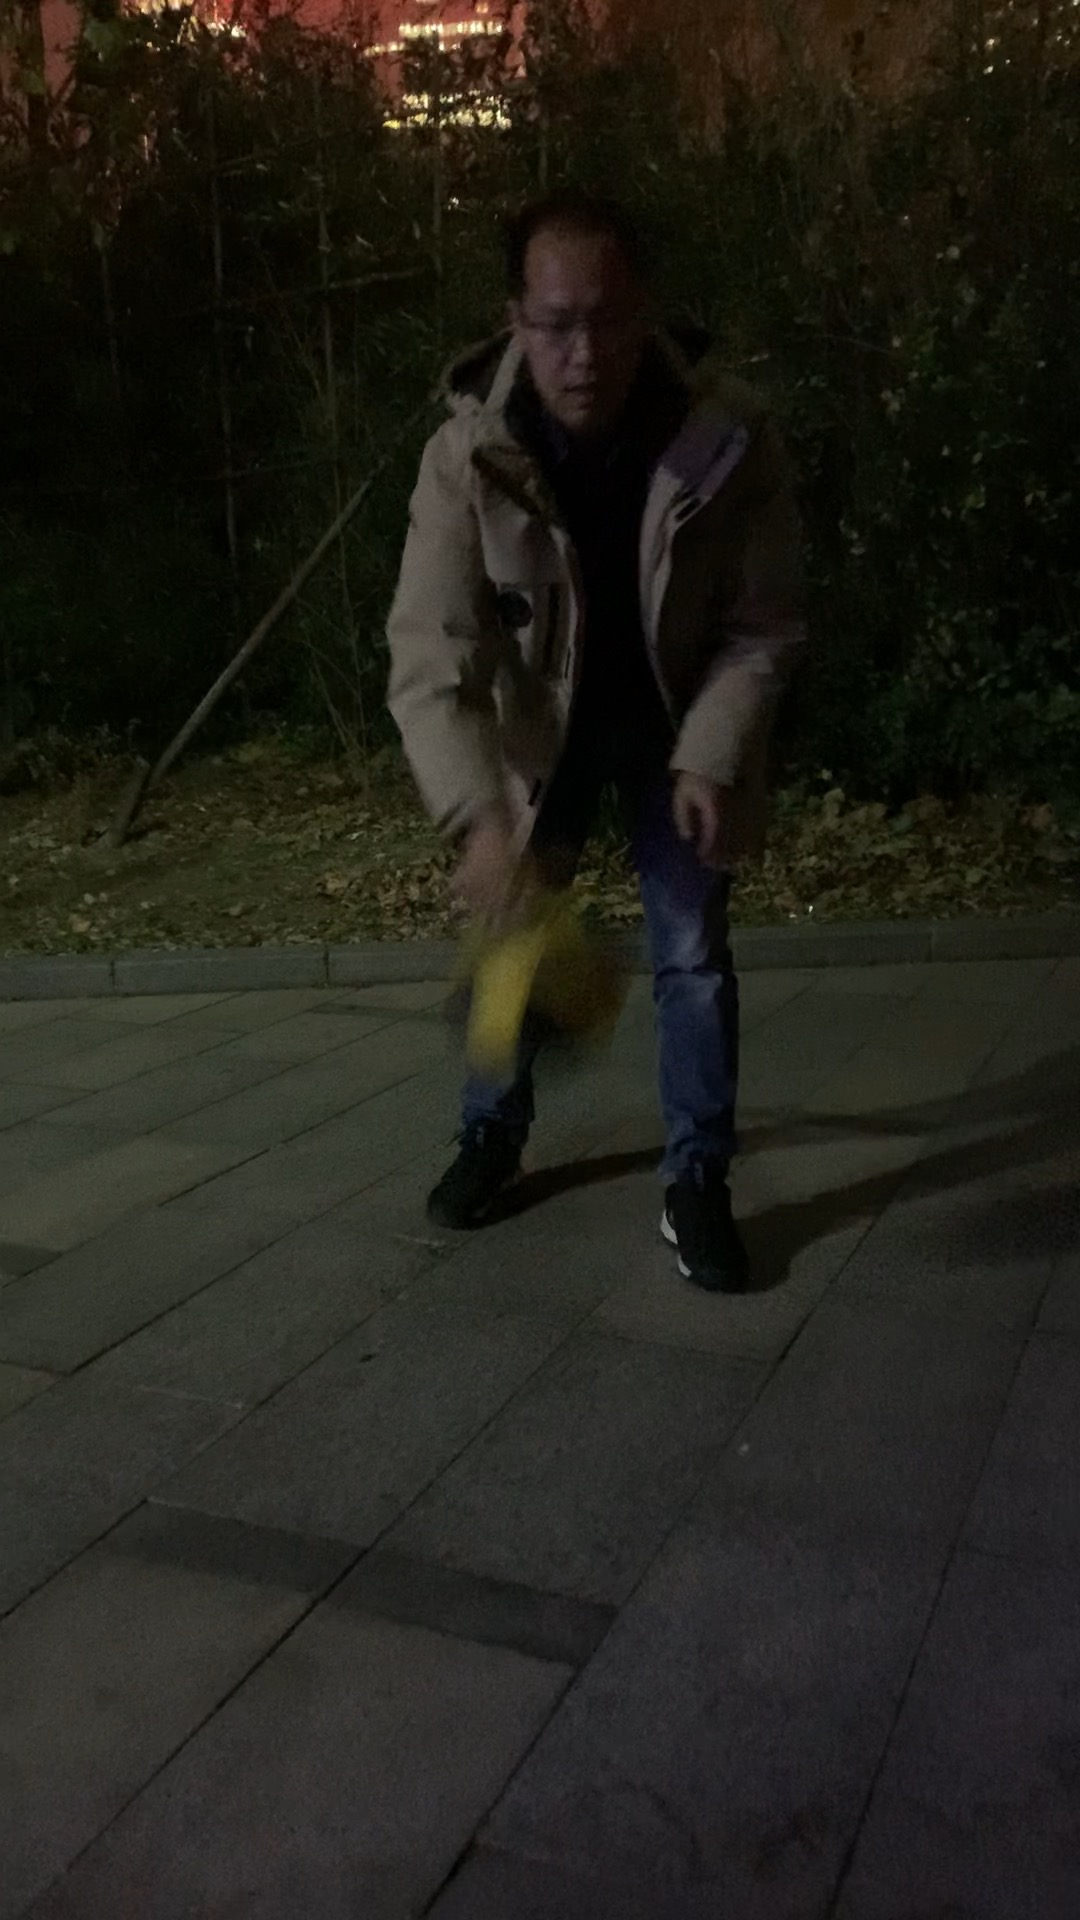ball: (444, 919, 626, 1105)
